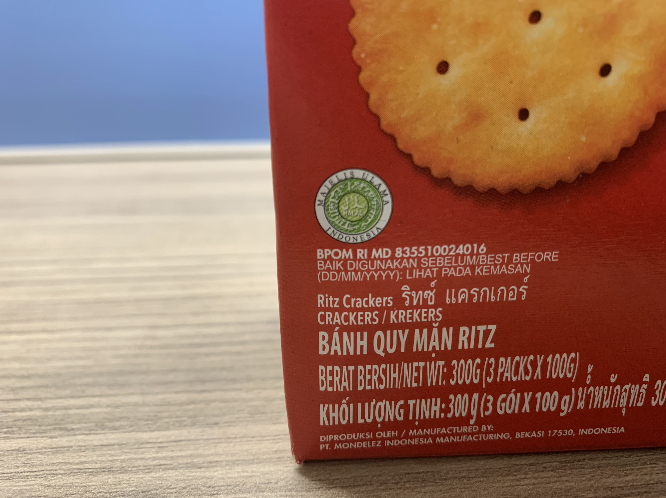halal: (323, 174, 381, 235)
